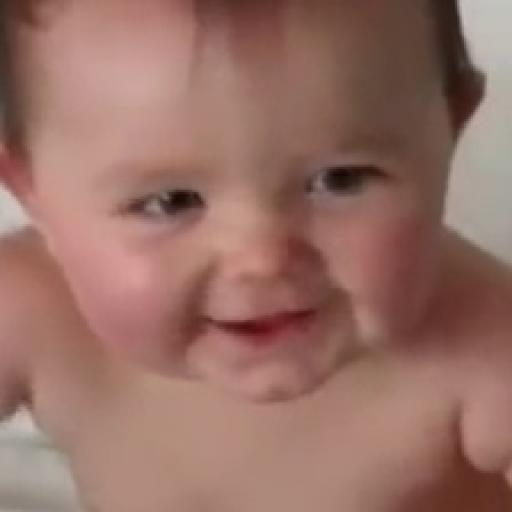Autism: (11, 16, 512, 414)
